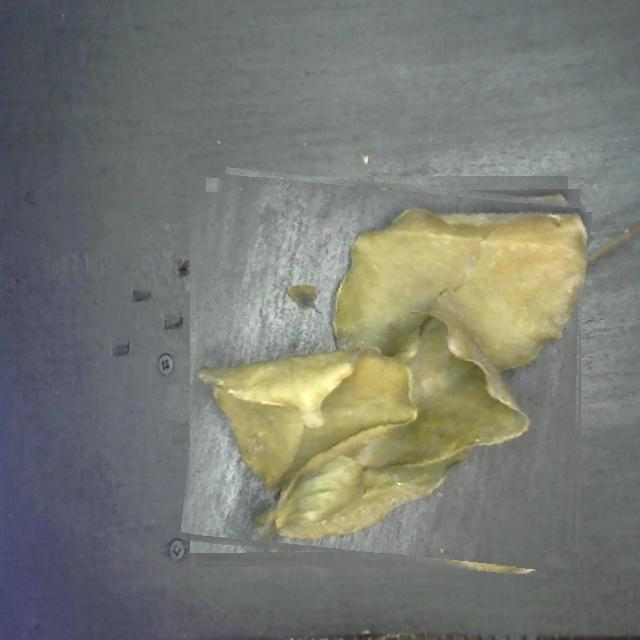biodegradable: (190, 176, 584, 569)
